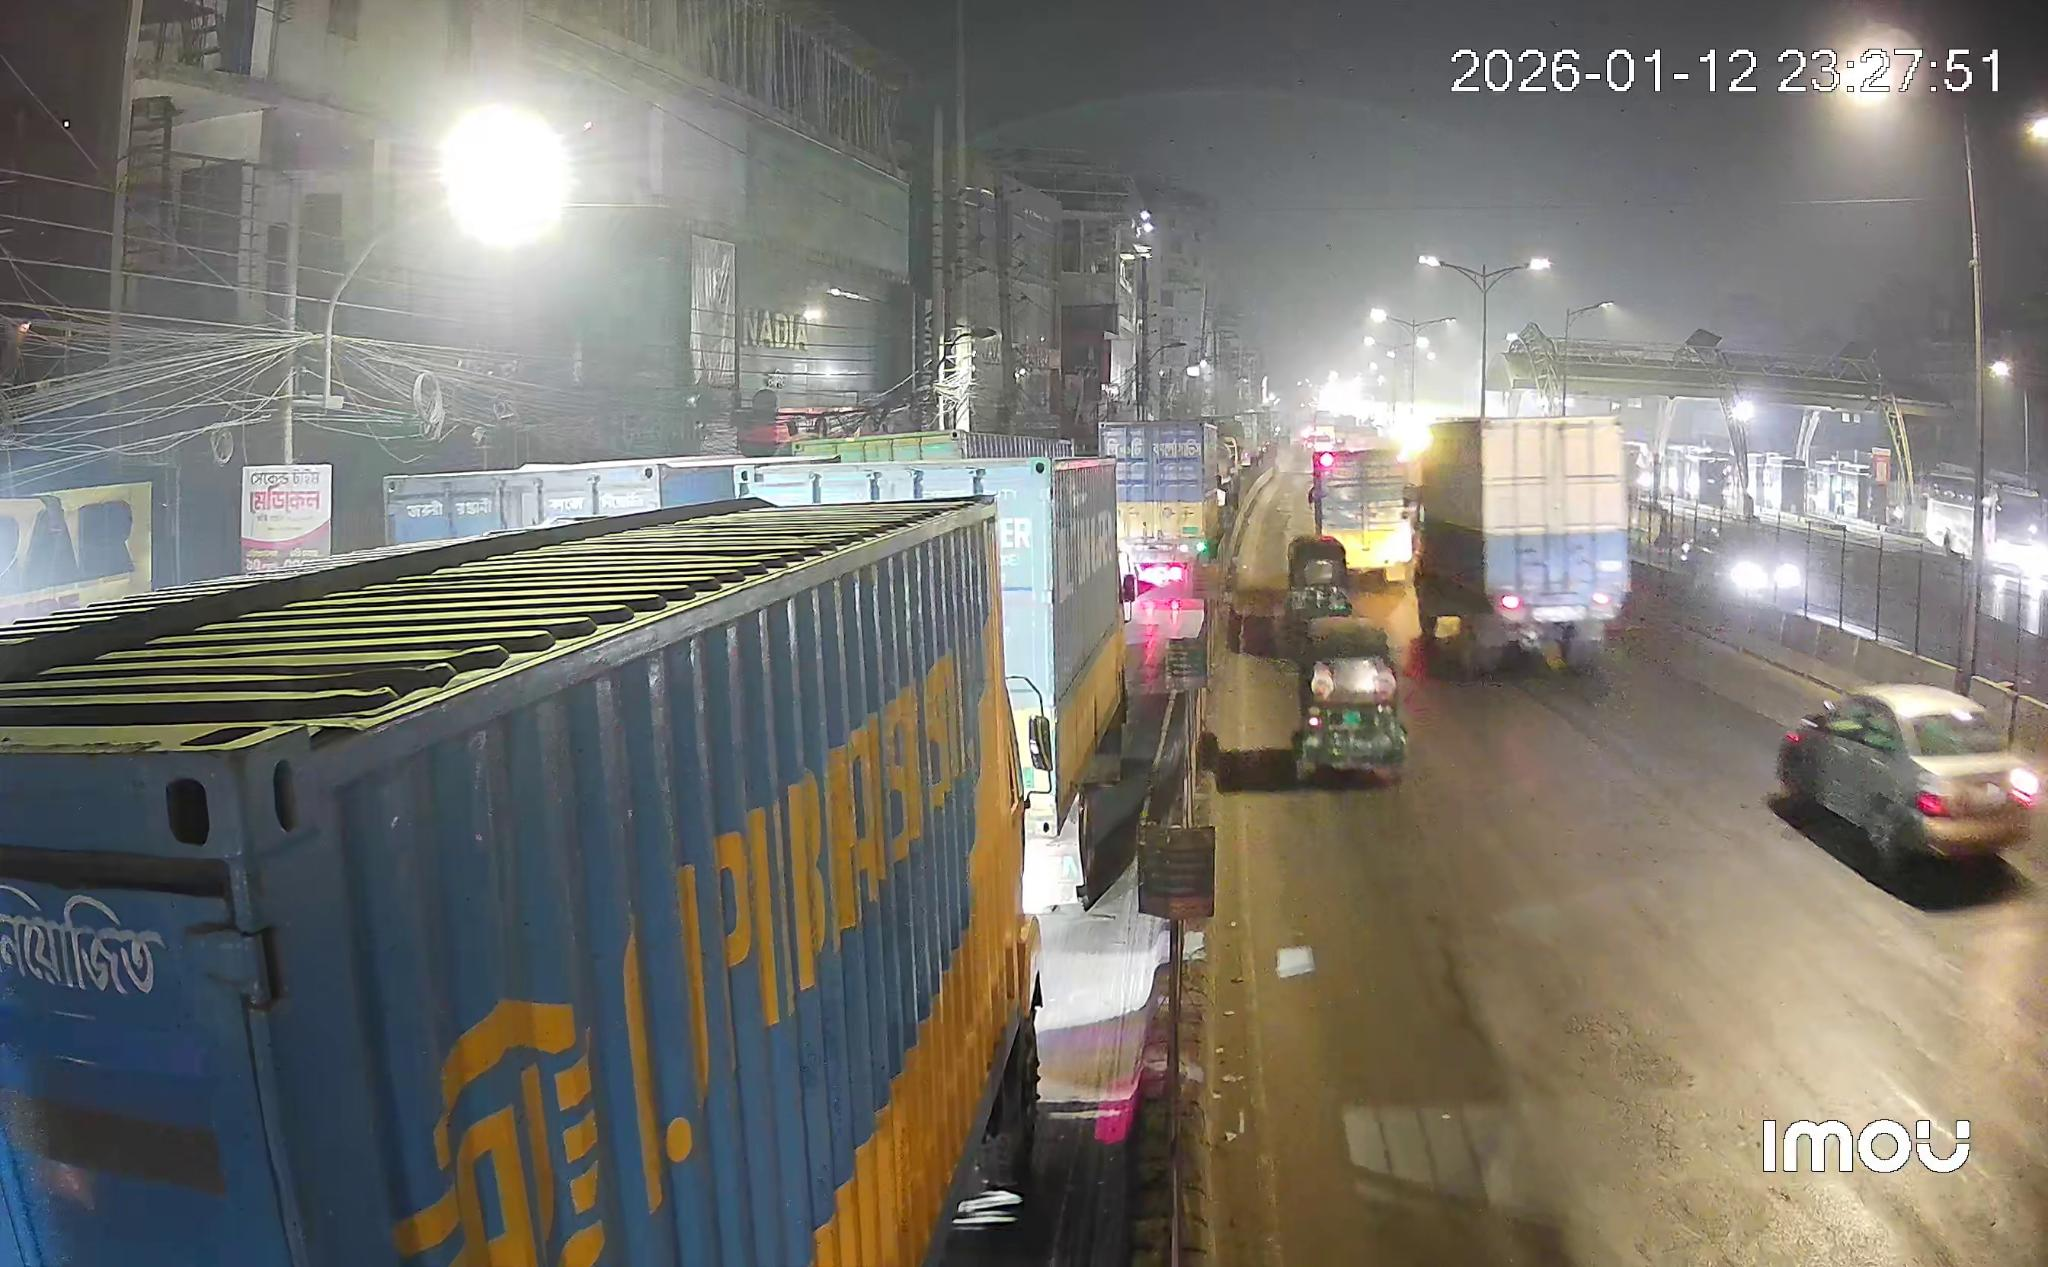CNG-Tempo: (1292, 617, 1406, 780), (1277, 537, 1352, 651)
Private-Sedan Car: (1777, 683, 2047, 872), (1660, 521, 1801, 598)
Truck: (0, 499, 1058, 1267), (752, 455, 1128, 913), (1412, 416, 1631, 676), (1100, 418, 1233, 595), (1311, 433, 1413, 581)
